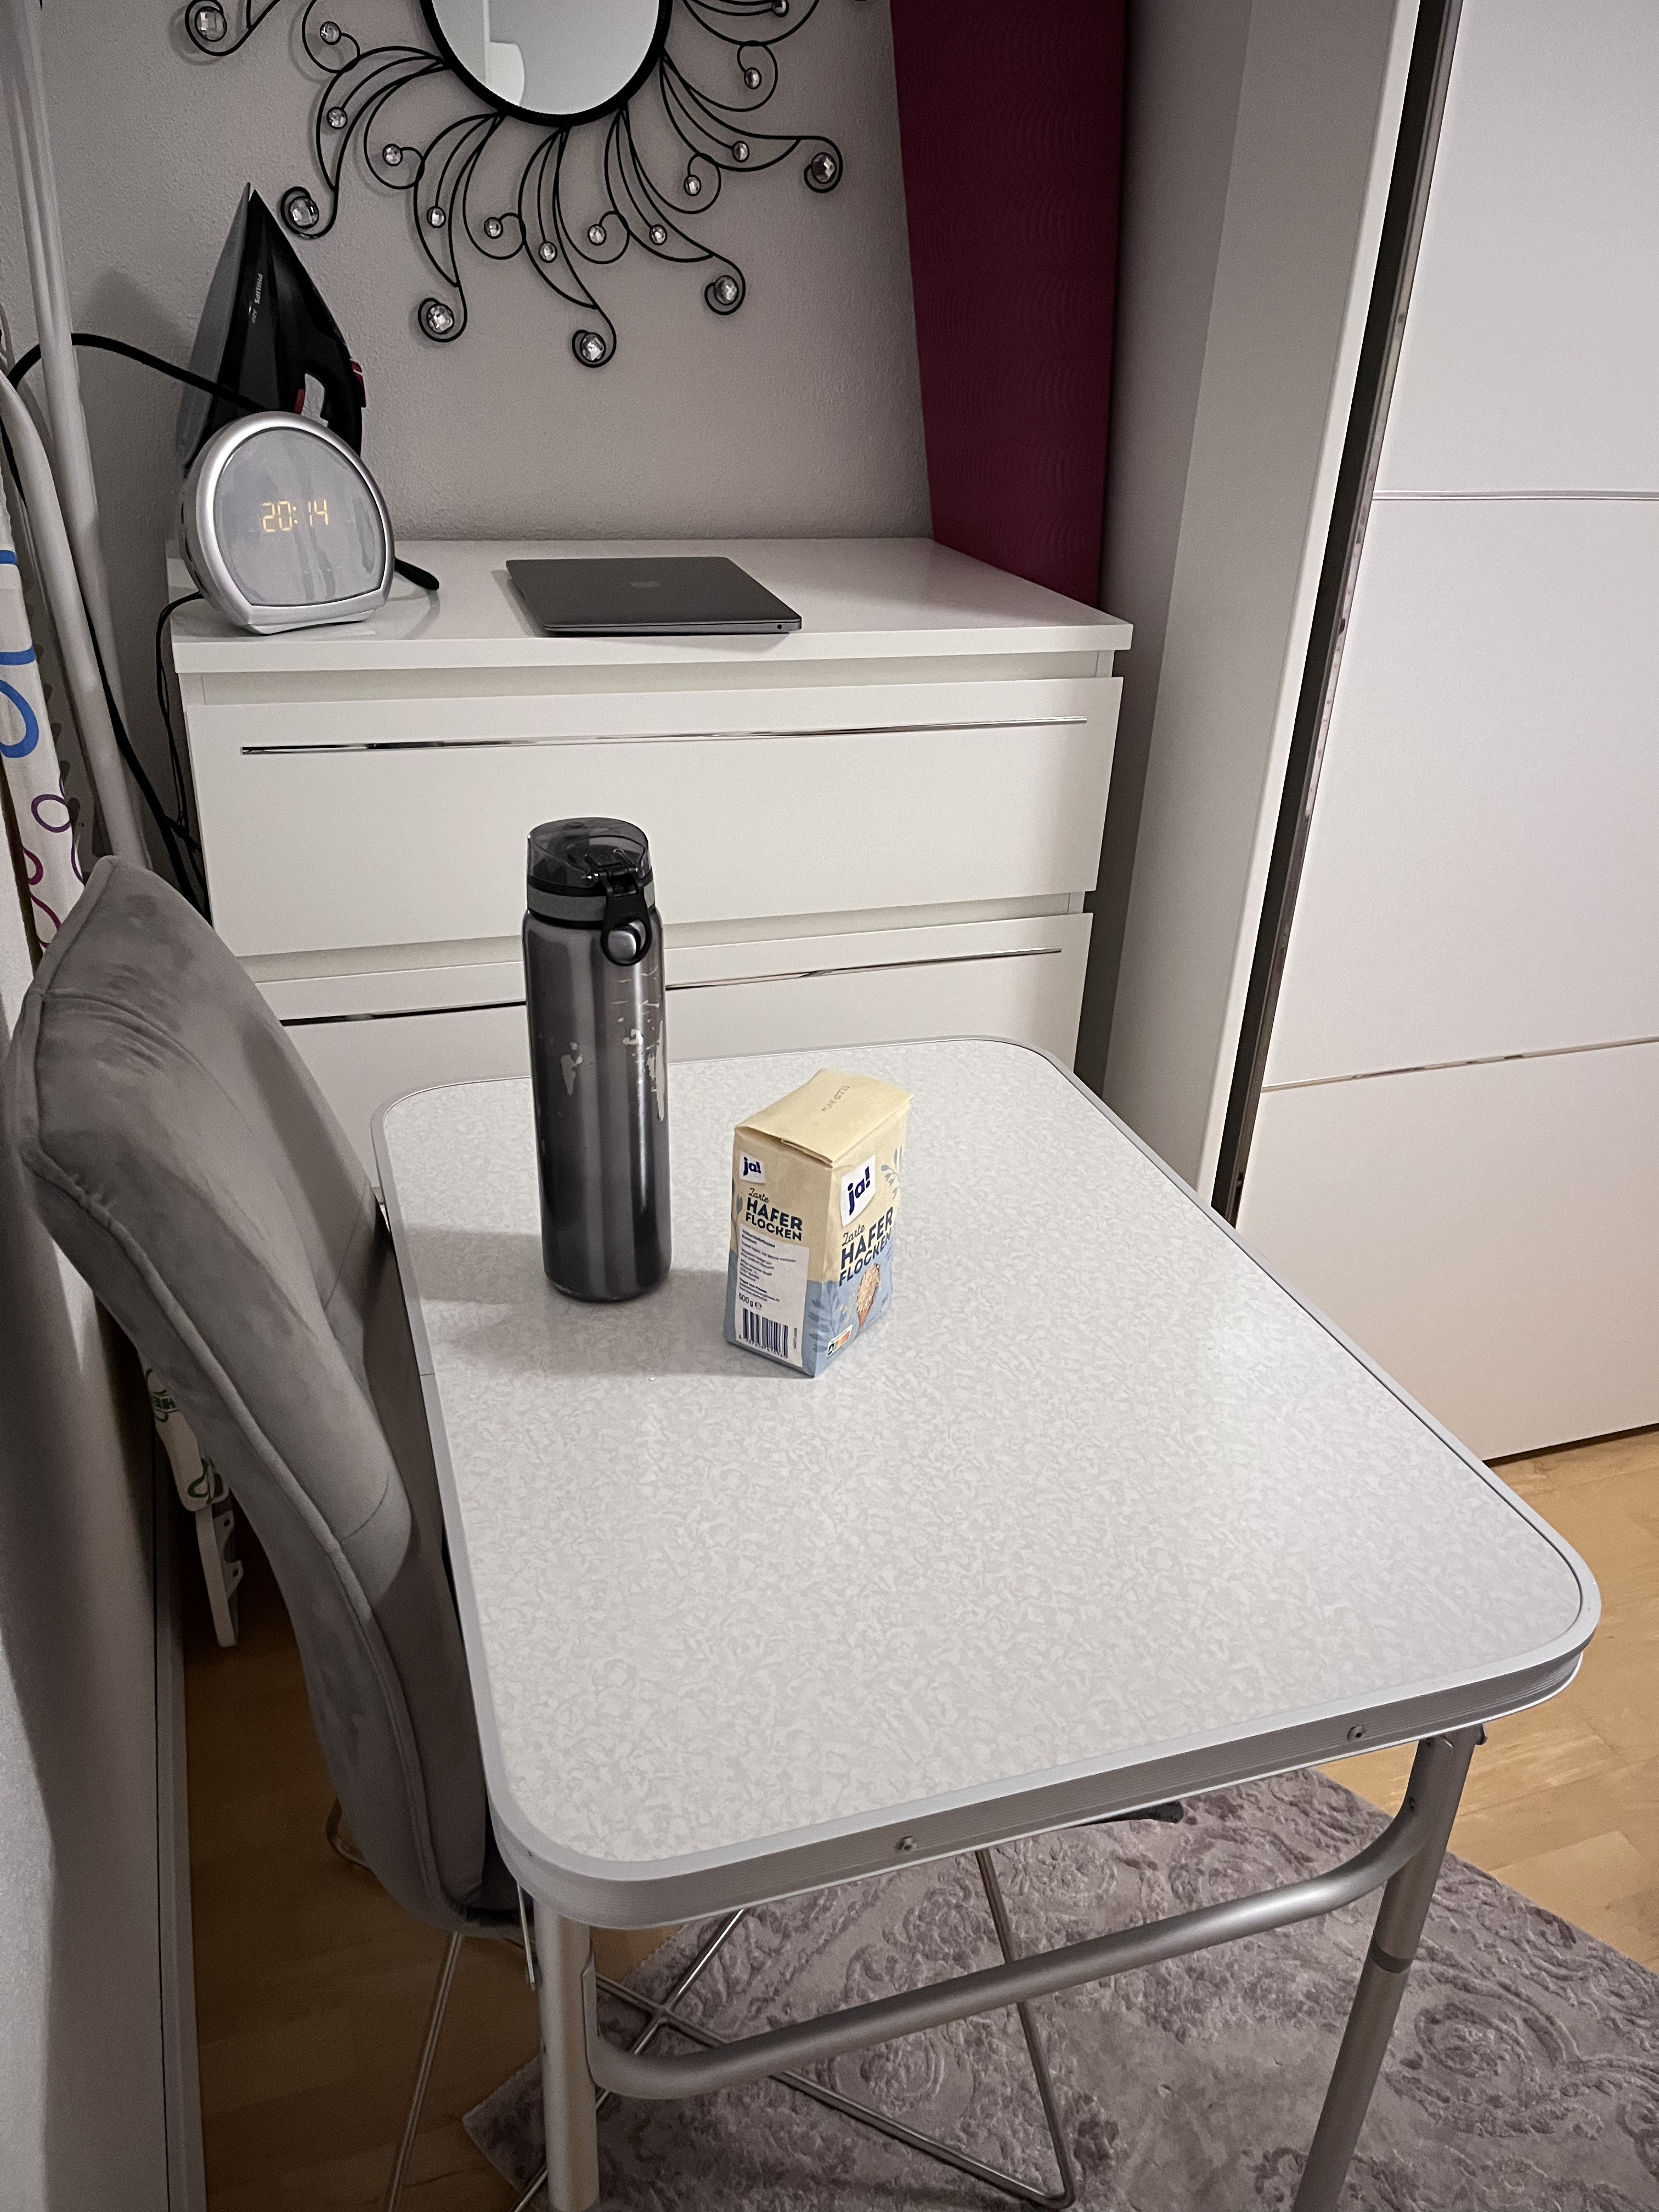haferflocken_ja: (725, 1069, 911, 1376)
